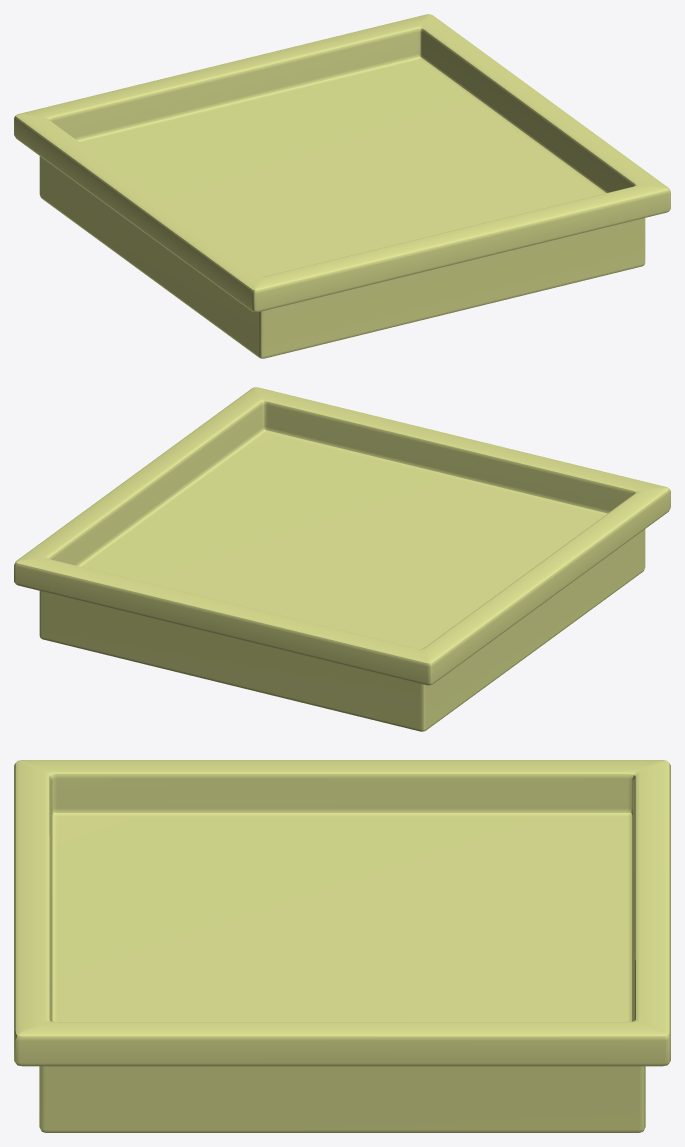
Rendered from SM_Recepteur_Box.fbx.
The picture shows the model from 3 angles, top to bottom: view 1: azimuth 30°, elevation 25°; view 2: azimuth 150°, elevation 25°; view 3: azimuth 270°, elevation 25°; orthographic projection. The views are drawn at different scales.
Visible parts, largest first — view 1: Recepteur_Boite; view 2: Recepteur_Boite; view 3: Recepteur_Boite.
Boxes of the visible parts, left/top/right/bottom form: Recepteur_Boite: left=14, top=14, right=670, bottom=358; Recepteur_Boite: left=14, top=387, right=670, bottom=731; Recepteur_Boite: left=14, top=760, right=670, bottom=1132.
Size of the model in its own units: 80.64 by 15 by 80.64.
